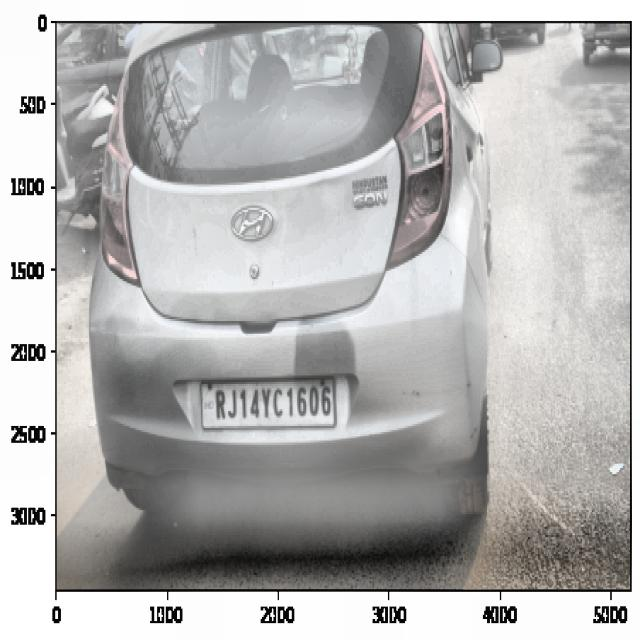license_plate: (207, 381, 336, 428)
